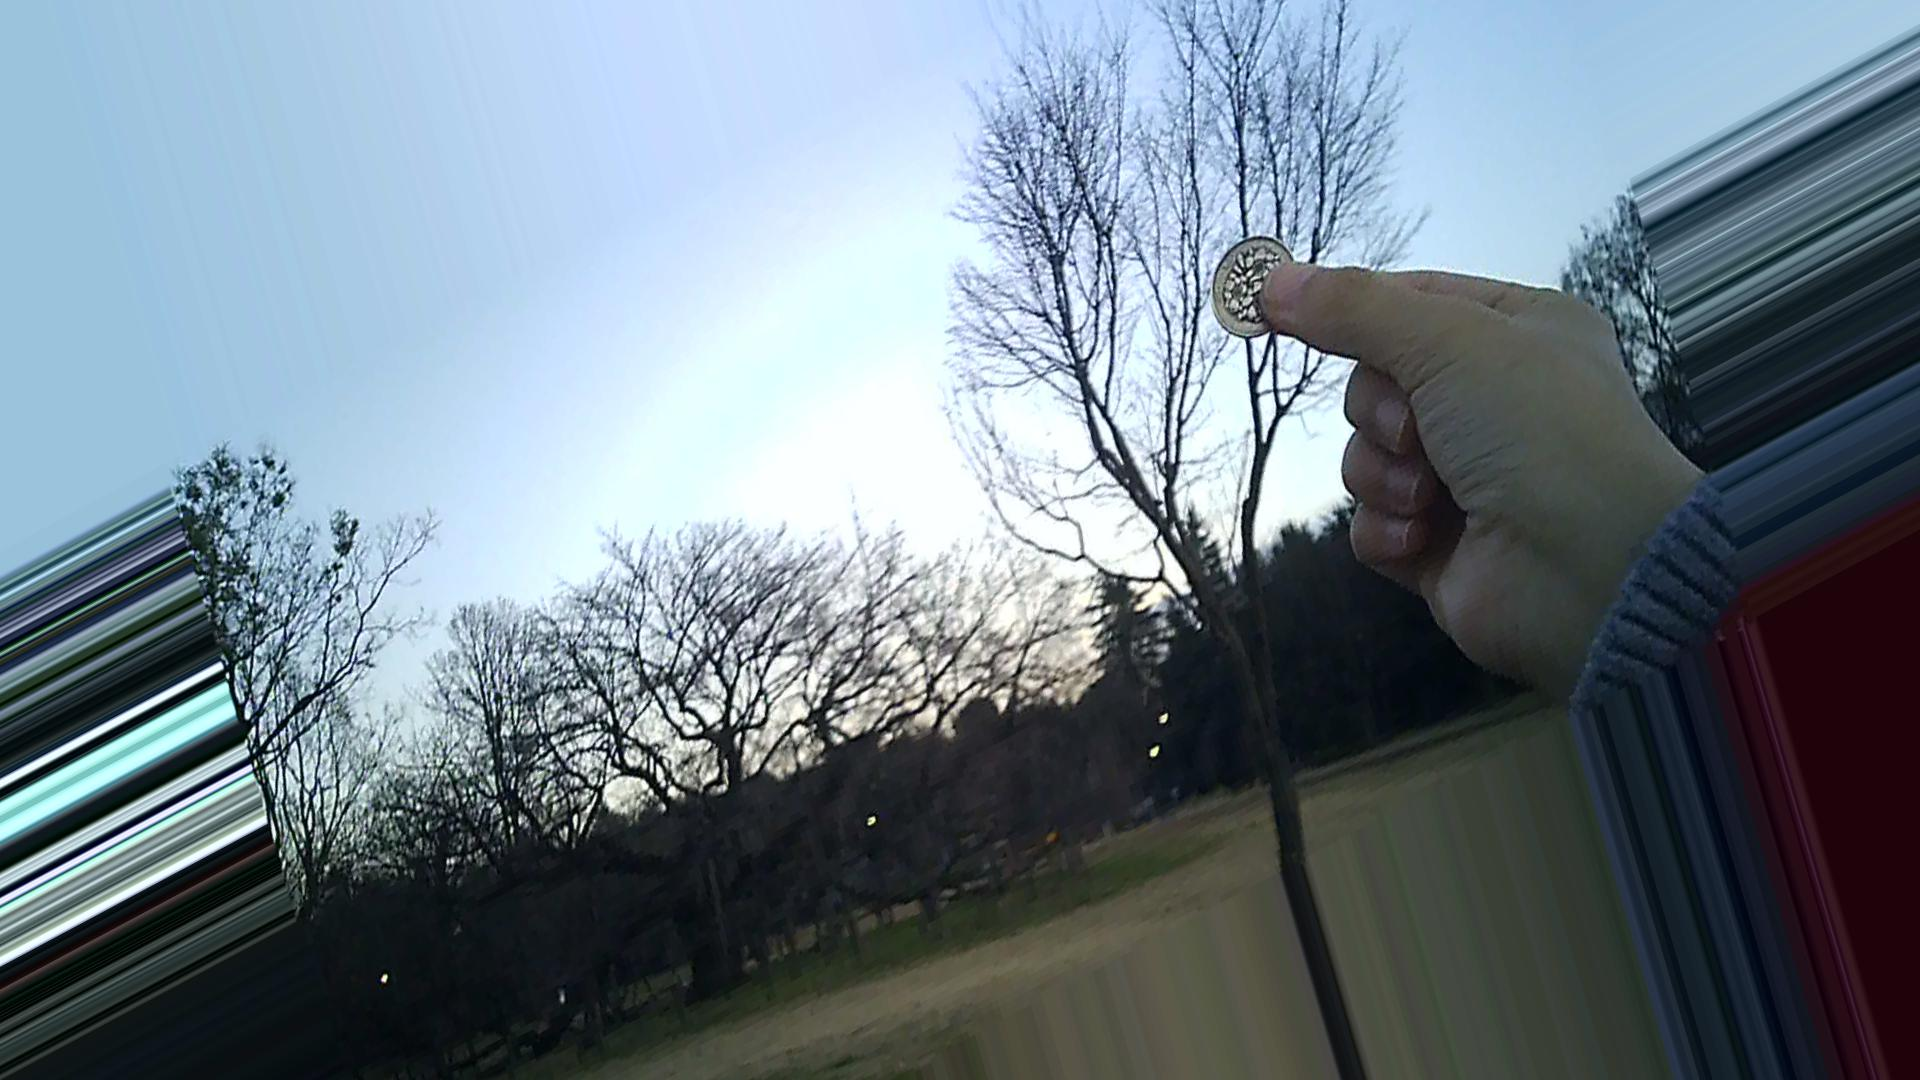100 Yen: (1204, 235, 1309, 344)
